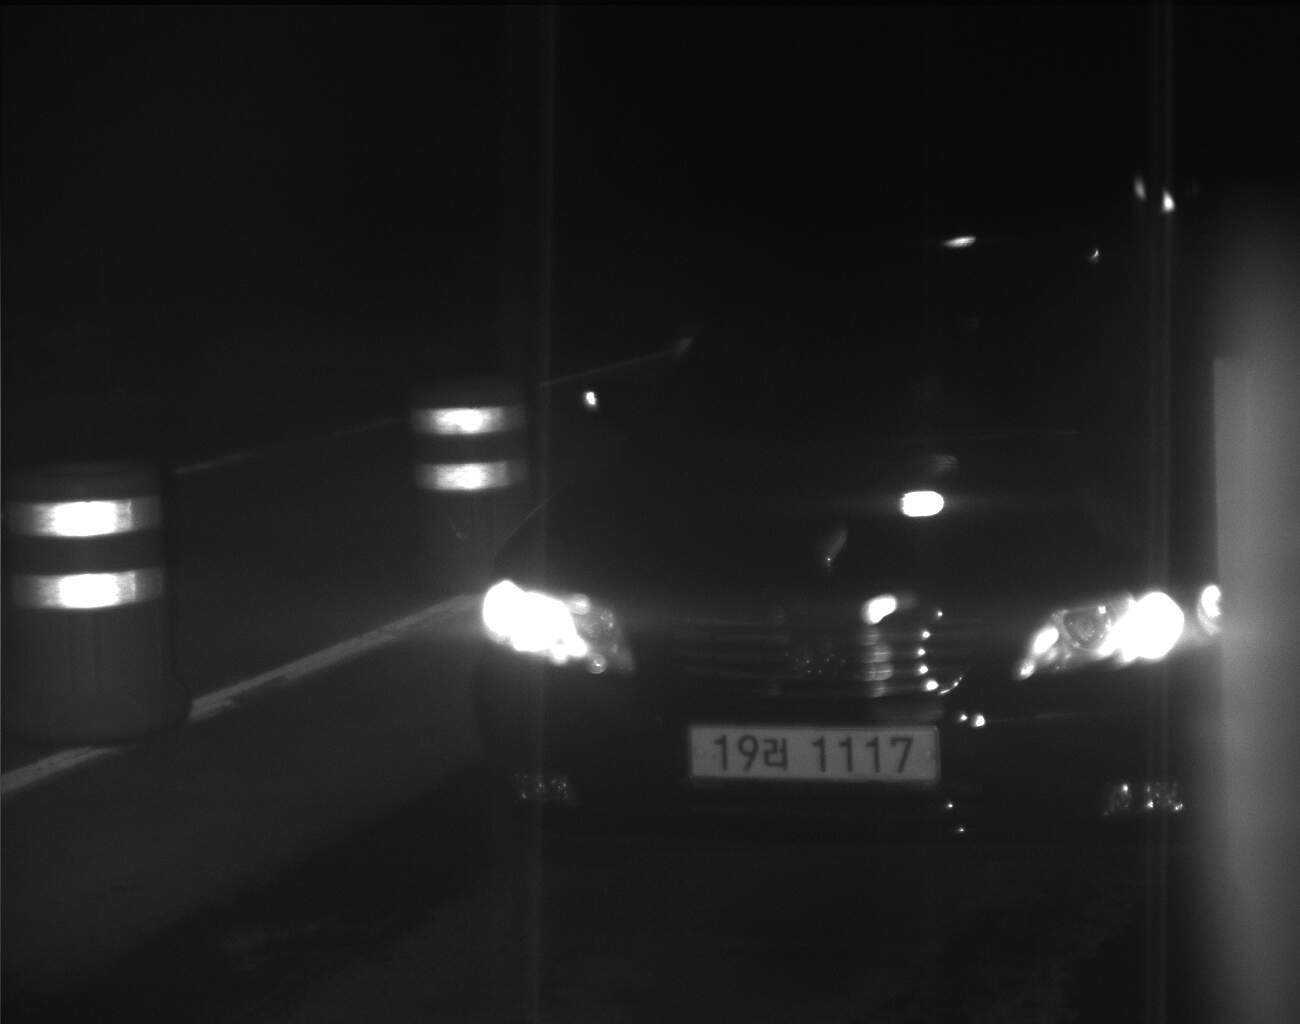car: (468, 57, 1223, 857)
plate: (682, 722, 942, 782)
